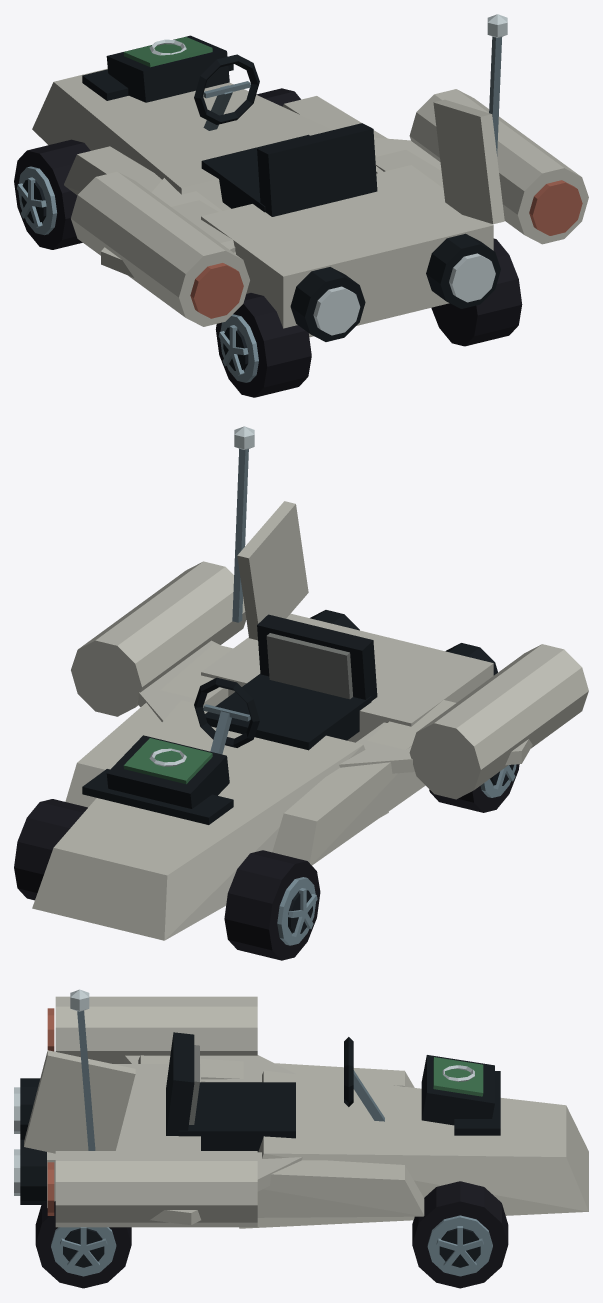
Rendered from kart.glb.
3 views of the same model, one above another, from view 1: azimuth 30°, elevation 25°; view 2: azimuth 150°, elevation 25°; view 3: azimuth 270°, elevation 25° (orthographic). The views are drawn at different scales.
Parts seen in each view (by area): view 1: identity-shuttle-shuttle-flight-planform, identity-shuttle-motif-engine-pods, identity-shuttle-driver-cockpit, wheel-rear-left, wheel-front-left, identity-shuttle-motif-scanner, wheel-rear-right, identity-shuttle-motif-antenna; view 2: identity-shuttle-shuttle-flight-planform, identity-shuttle-motif-engine-pods, identity-shuttle-driver-cockpit, wheel-front-left, identity-shuttle-motif-scanner, wheel-front-right, identity-shuttle-motif-antenna, wheel-rear-left; view 3: identity-shuttle-shuttle-flight-planform, identity-shuttle-motif-engine-pods, identity-shuttle-driver-cockpit, wheel-front-right, wheel-rear-right, identity-shuttle-motif-scanner, identity-shuttle-motif-antenna.
Part boxes in pixels (left/top/right/bottom): identity-shuttle-shuttle-flight-planform: left=32, top=64, right=504, bottom=341; identity-shuttle-motif-engine-pods: left=71, top=89, right=588, bottom=326; identity-shuttle-driver-cockpit: left=194, top=54, right=377, bottom=216; wheel-rear-left: left=215, top=293, right=311, bottom=397; wheel-front-left: left=14, top=139, right=90, bottom=249; identity-shuttle-motif-scanner: left=106, top=35, right=229, bottom=102; wheel-rear-right: left=431, top=238, right=522, bottom=346; identity-shuttle-motif-antenna: left=487, top=14, right=507, bottom=156; identity-shuttle-shuttle-flight-planform: left=32, top=501, right=532, bottom=940; identity-shuttle-motif-engine-pods: left=71, top=561, right=588, bottom=799; identity-shuttle-driver-cockpit: left=194, top=614, right=377, bottom=754; wheel-front-left: left=224, top=850, right=320, bottom=960; identity-shuttle-motif-scanner: left=106, top=735, right=229, bottom=808; wheel-front-right: left=14, top=799, right=87, bottom=900; identity-shuttle-motif-antenna: left=232, top=426, right=254, bottom=622; wheel-rear-left: left=429, top=764, right=519, bottom=812; identity-shuttle-shuttle-flight-planform: left=14, top=1050, right=588, bottom=1228; identity-shuttle-motif-engine-pods: left=47, top=996, right=257, bottom=1227; identity-shuttle-driver-cockpit: left=166, top=1032, right=384, bottom=1151; wheel-front-right: left=412, top=1181, right=508, bottom=1288; wheel-rear-right: left=35, top=1201, right=131, bottom=1288; identity-shuttle-motif-scanner: left=421, top=1055, right=494, bottom=1125; identity-shuttle-motif-antenna: left=70, top=989, right=95, bottom=1150.
Bounding box in the file's own units: 2.36 × 1.72 × 2.99.
